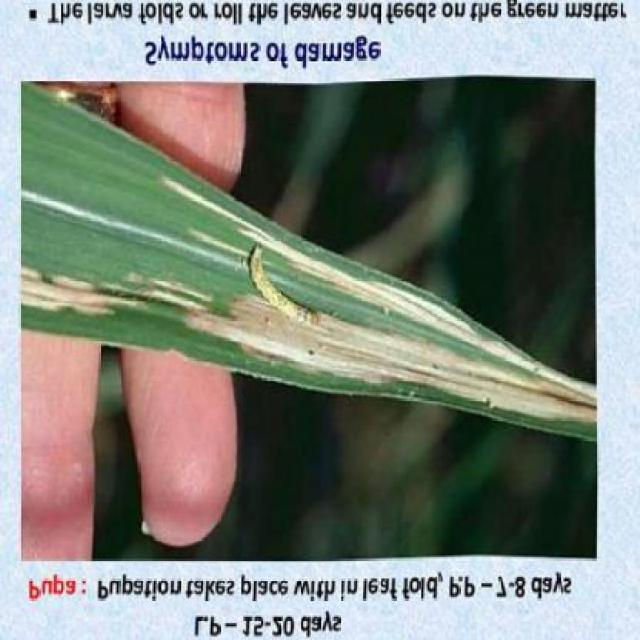leaf-folder: (238, 233, 338, 355)
